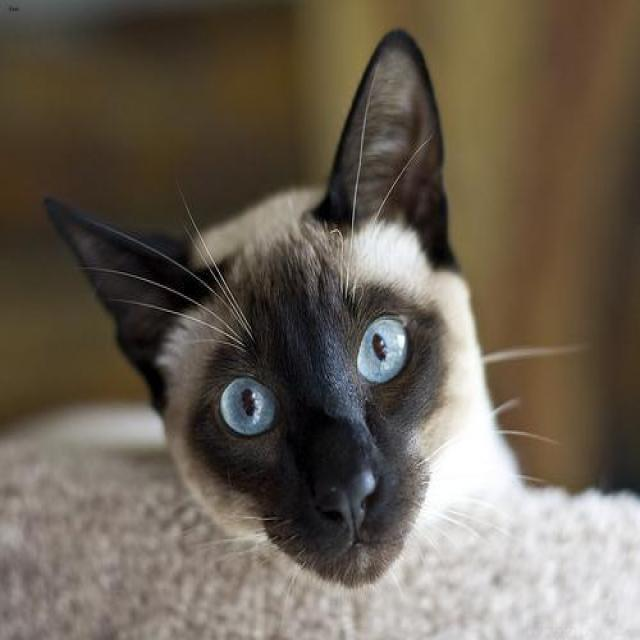cat: (44, 27, 520, 589)
